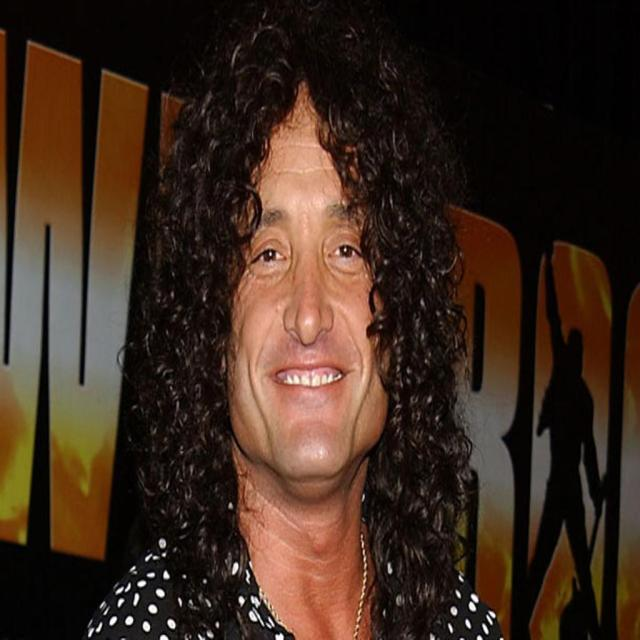Face: (229, 87, 394, 511)
